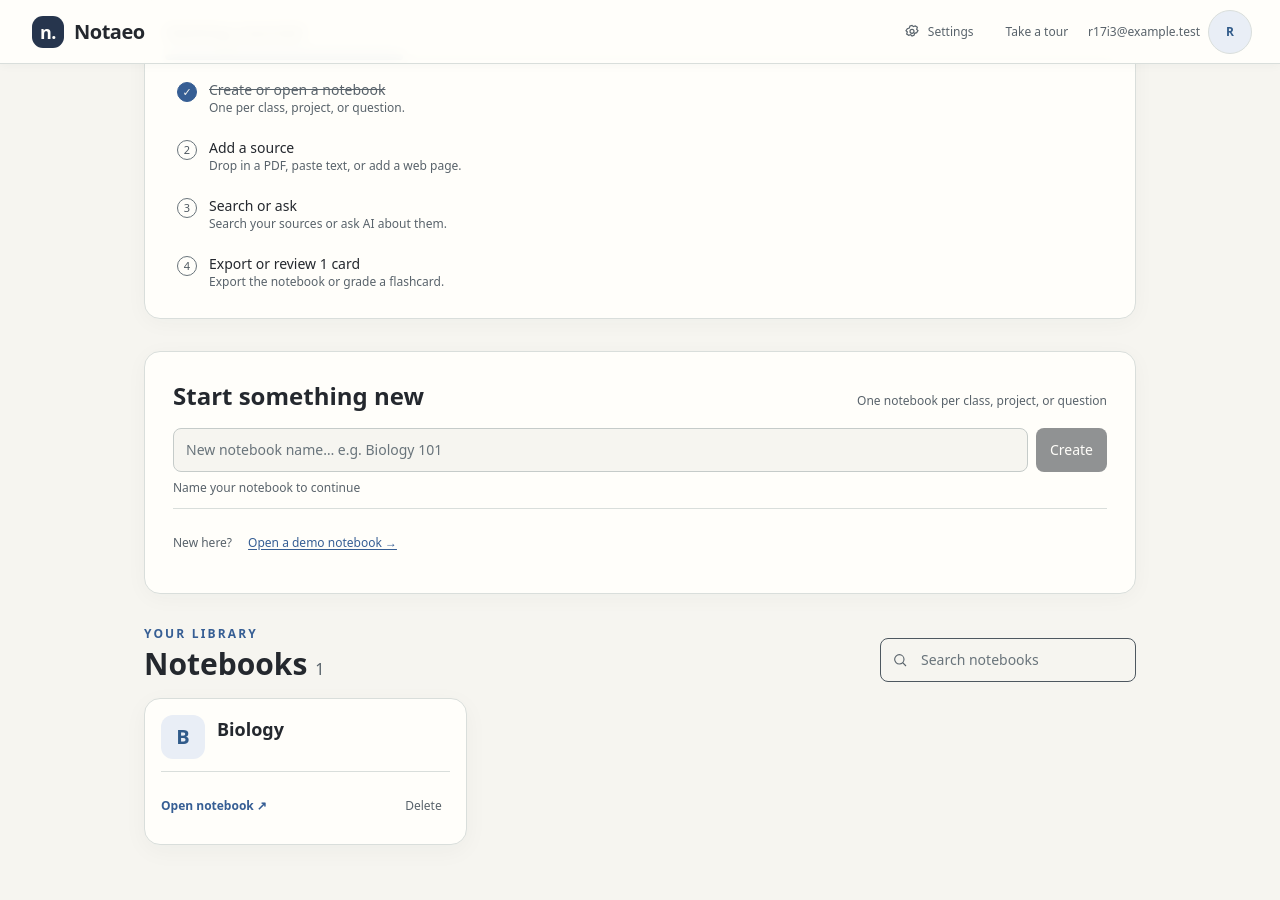
Test case: mobile bottom nav labels match desktop views
(page scrolled)
Click the button with aria-label "Open Biology". click: x=183, y=737
box: left=161, top=715, right=450, bottom=759
(page scrolled)
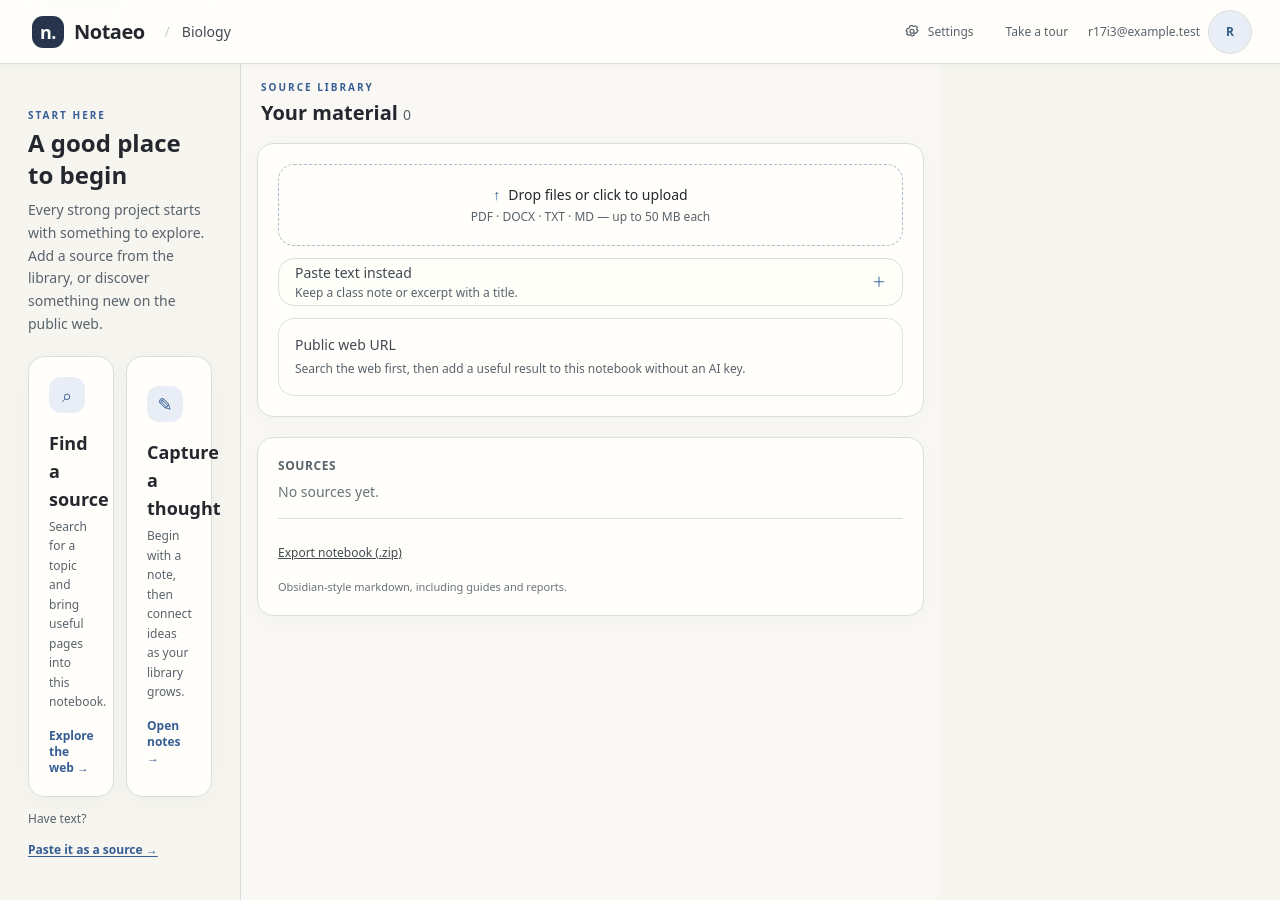
Check: the button "Export notebook (.zip)" is shown, box left=278, top=530, right=402, bottom=574
